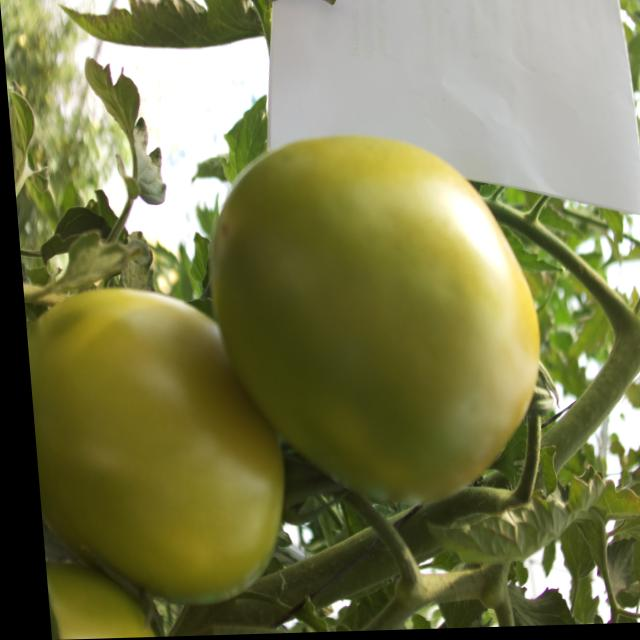yesil: (31, 125, 549, 597)
